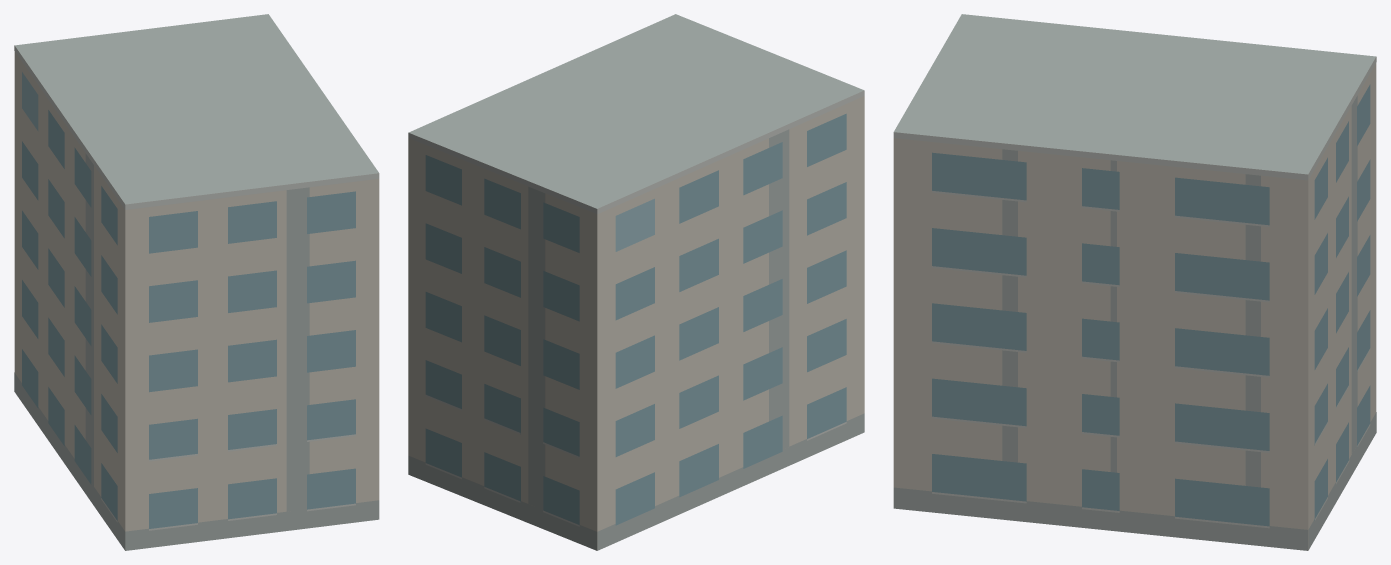
File: survey-upis-32871072.glb
3 renders of one model, left to right at view 1: azimuth 30°, elevation 25°; view 2: azimuth 150°, elevation 25°; view 3: azimuth 270°, elevation 25°, orthographic. The views are drawn at different scales.
Visible parts, largest first — view 1: survey-upis-32871072.tmp; view 2: survey-upis-32871072.tmp; view 3: survey-upis-32871072.tmp.
Boxes of the visible parts, box(x1,y1,x2,y2) form: survey-upis-32871072.tmp: box(14, 14, 379, 550); survey-upis-32871072.tmp: box(408, 14, 864, 550); survey-upis-32871072.tmp: box(893, 14, 1376, 550).
Bounding box in the file's own units: 13.96 × 15.25 × 17.74.
